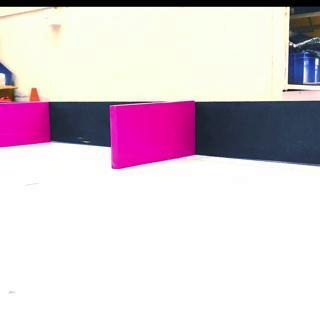xparking: (112, 106, 196, 166), (1, 101, 50, 145)
